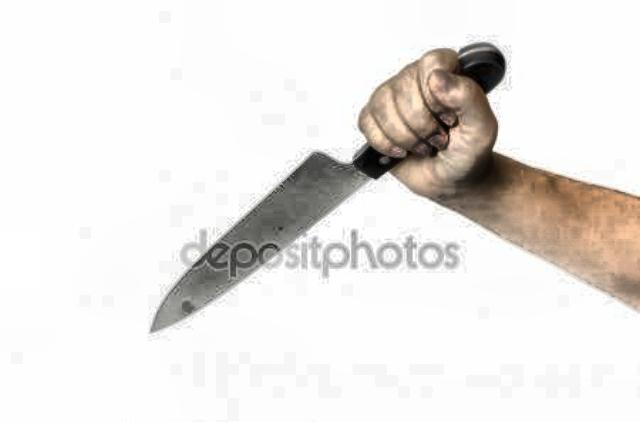knife: (140, 94, 454, 340)
